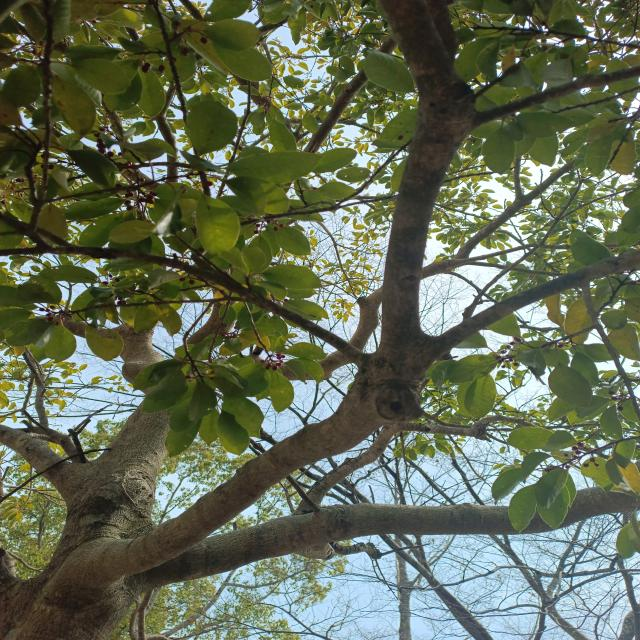Branch: (85, 0, 477, 579), (134, 486, 640, 593), (2, 424, 75, 504)
Twig: (0, 246, 367, 364), (430, 249, 639, 362), (456, 161, 571, 257), (18, 342, 90, 461), (448, 242, 625, 268), (466, 262, 566, 274)
